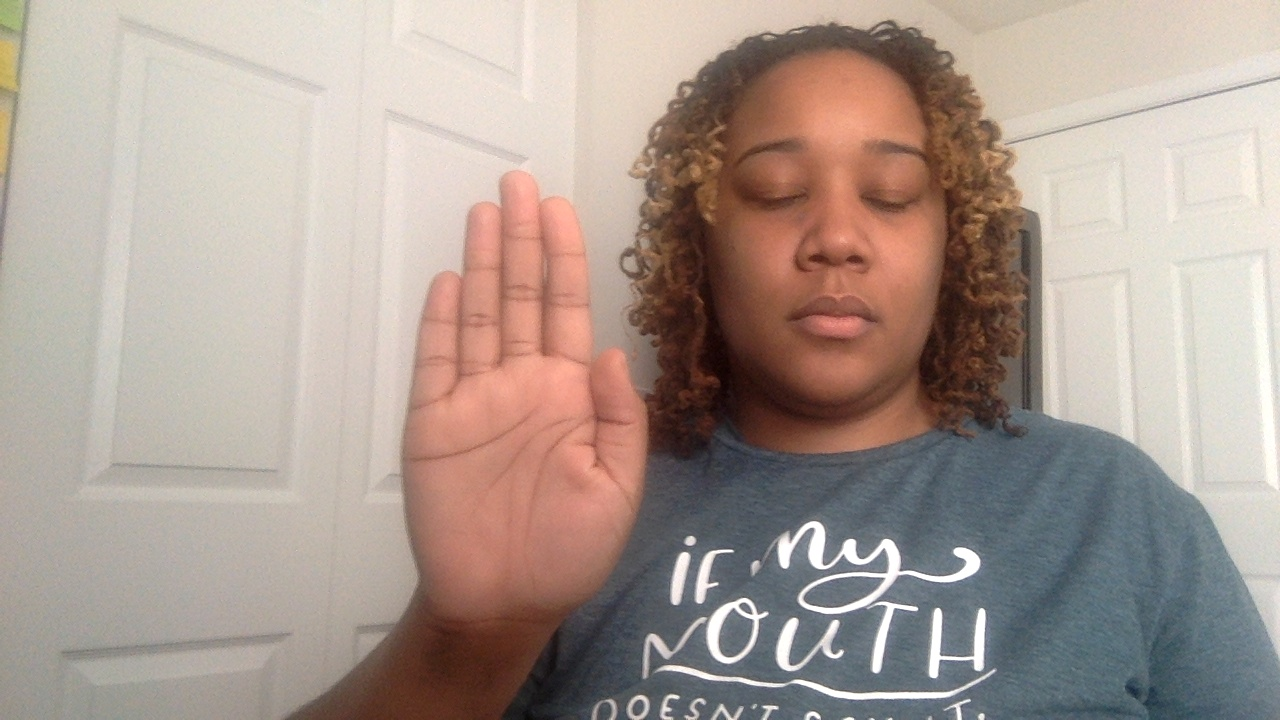hello: (383, 167, 657, 627)
